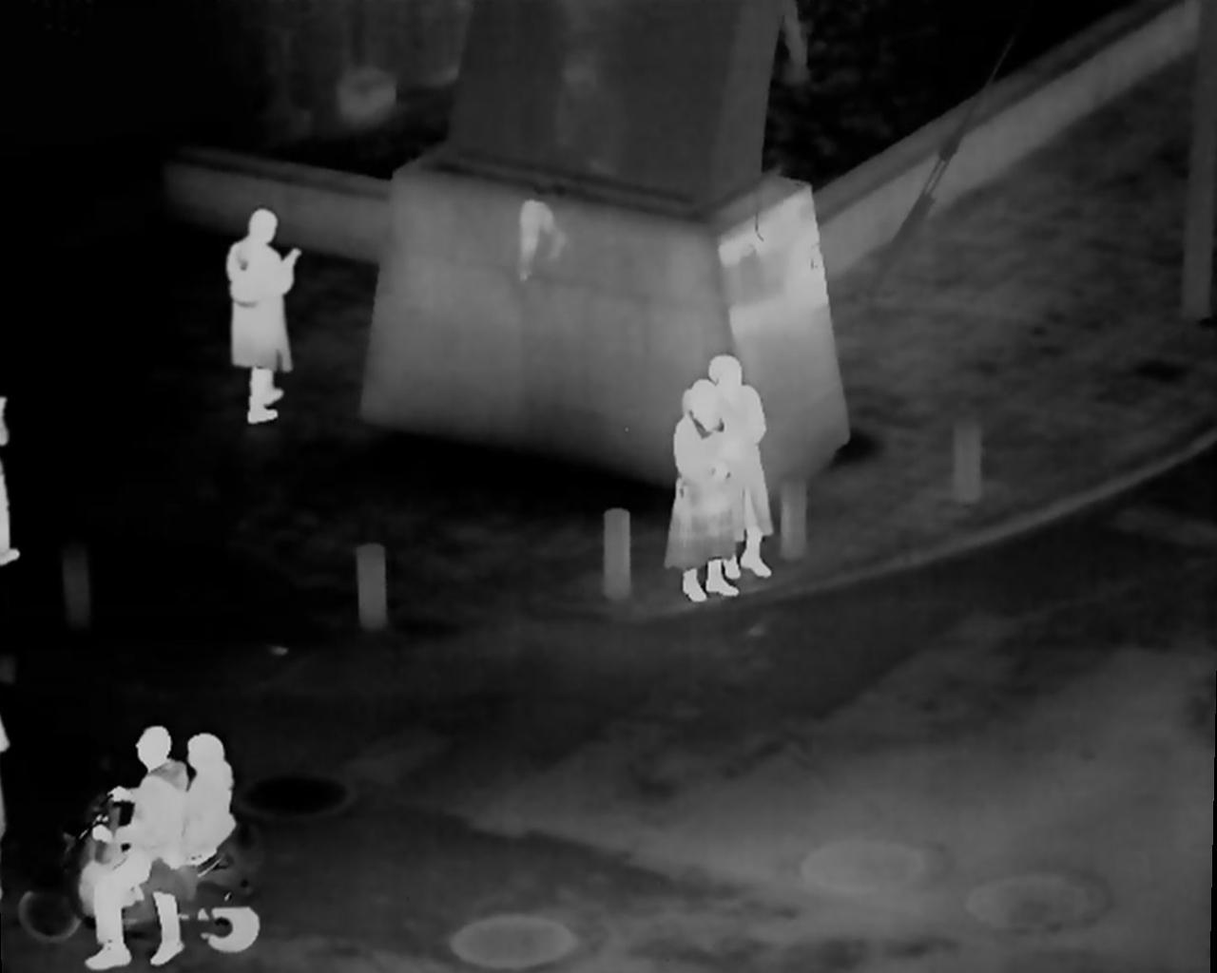person: (82, 728, 186, 973), (225, 207, 301, 427), (706, 353, 775, 581), (673, 381, 743, 601), (176, 735, 238, 969)
